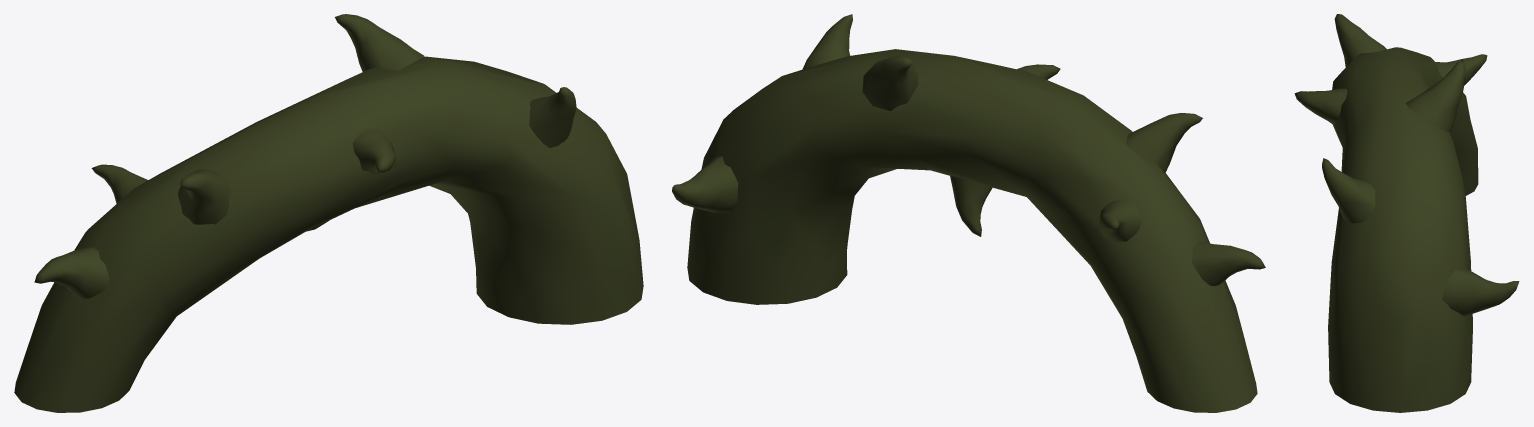
The model's file is Dev_Env_Vine_Spikes.fbx.
The picture shows the model from 3 angles, left to right: view 1: azimuth 30°, elevation 25°; view 2: azimuth 150°, elevation 25°; view 3: azimuth 270°, elevation 25°; orthographic projection. The views are drawn at different scales.
Visible parts, largest first — view 1: Env_Vine_Spikes; view 2: Env_Vine_Spikes; view 3: Env_Vine_Spikes.
Boxes of the visible parts, x1,y1,x2,y2 form: Env_Vine_Spikes: (14,14,643,412); Env_Vine_Spikes: (672,14,1265,412); Env_Vine_Spikes: (1294,14,1519,412).
Size of the model in its own units: 230 by 109 by 89.58.
